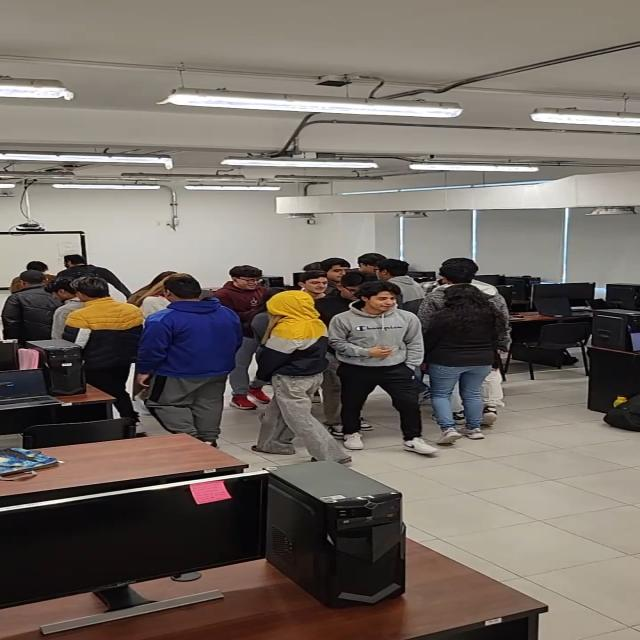Persona: (327, 281, 447, 457), (138, 276, 245, 451), (255, 288, 354, 464), (422, 262, 503, 444), (59, 276, 144, 424), (2, 269, 62, 339), (41, 272, 97, 336), (54, 254, 133, 299), (287, 269, 356, 318), (213, 263, 264, 310), (9, 257, 66, 292), (314, 259, 356, 303), (367, 256, 409, 297), (351, 255, 389, 287)
